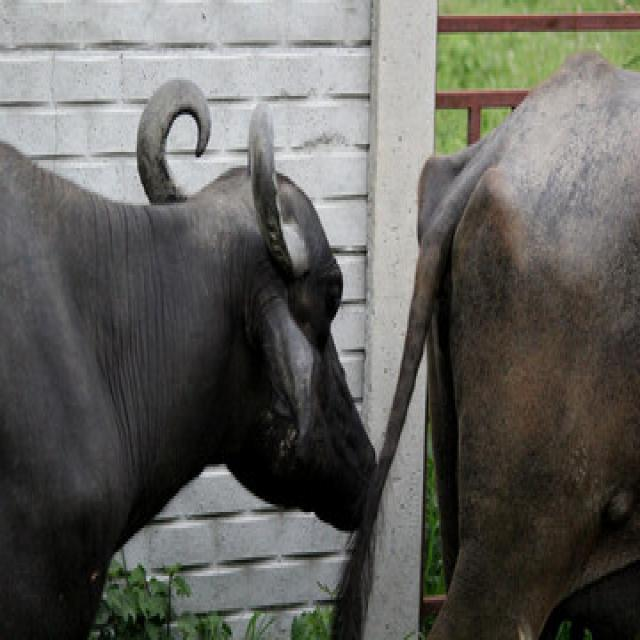Buffalo: (0, 69, 380, 634)
